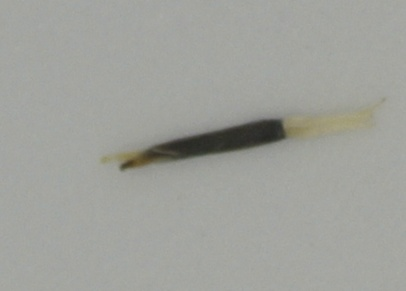เมล็ดงอกแตก: (101, 95, 387, 174)
